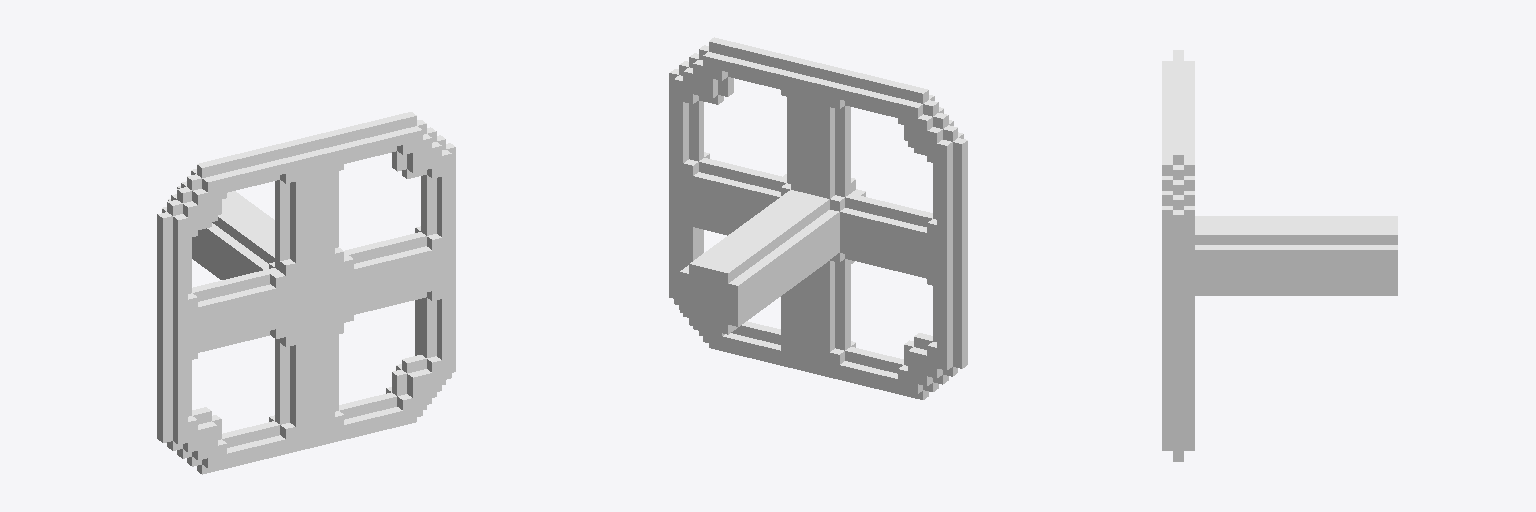
File: nee.obj
The picture shows the model from 3 angles: view 1: azimuth 30°, elevation 25°; view 2: azimuth 150°, elevation 25°; view 3: azimuth 270°, elevation 25°; orthographic projection.
Visible parts, largest first — view 1: object 1; view 2: object 1; view 3: object 1.
Boxes of the visible parts, box(x1,y1,x2,y2) form: object 1: box(157, 112, 455, 474); object 1: box(669, 37, 967, 399); object 1: box(1162, 50, 1397, 461).
Size of the model in its own units: 3 by 3 by 2.1.